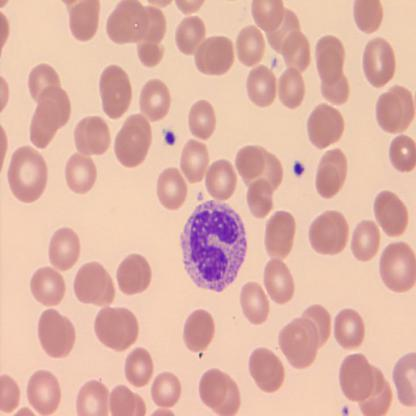Band Neutrophil: (177, 195, 249, 296)
